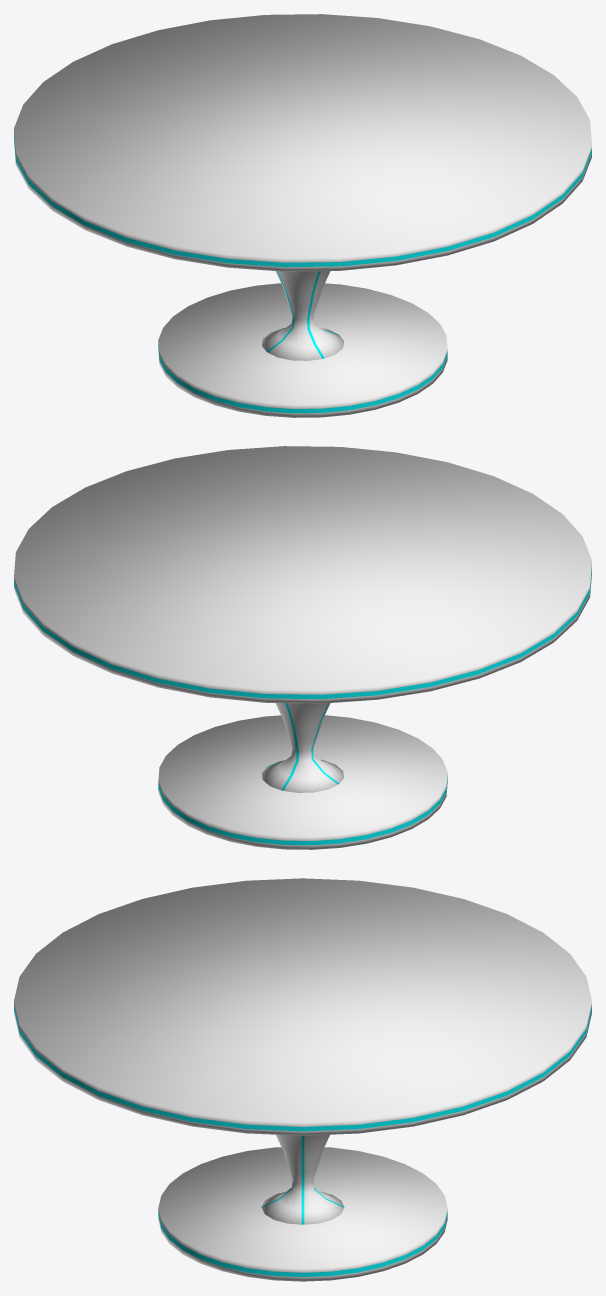
Rendered from Round Table.fbx.
The picture shows the model from 3 angles, top to bottom: view 1: azimuth 30°, elevation 25°; view 2: azimuth 150°, elevation 25°; view 3: azimuth 270°, elevation 25°; orthographic projection.
Parts seen in each view (by area): view 1: Cylinder, Cylinder.001, Center 1; view 2: Cylinder, Cylinder.001, Center 1; view 3: Cylinder, Cylinder.001, Center 1.
Part boxes in pixels (x1=…): Cylinder: x1=14, y1=14, x2=591, y2=271; Cylinder.001: x1=158, y1=283, x2=447, y2=417; Center 1: x1=262, y1=271, x2=343, y2=360; Cylinder: x1=14, y1=446, x2=591, y2=703; Cylinder.001: x1=158, y1=715, x2=447, y2=849; Center 1: x1=262, y1=703, x2=343, y2=792; Cylinder: x1=14, y1=878, x2=591, y2=1135; Cylinder.001: x1=158, y1=1147, x2=447, y2=1281; Center 1: x1=261, y1=1134, x2=344, y2=1224.
Size of the model in its own units: 9.81 by 9.81 by 4.12.
